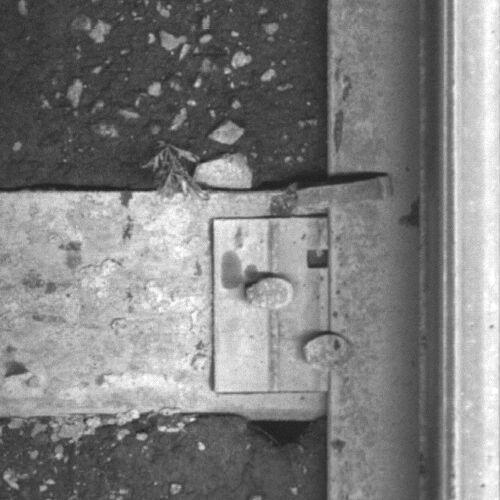crutch: (295, 173, 396, 213)
do: (211, 216, 354, 394)
hole_do: (298, 236, 342, 281)
rail: (448, 1, 500, 500)
tie_wood: (1, 190, 325, 414)
